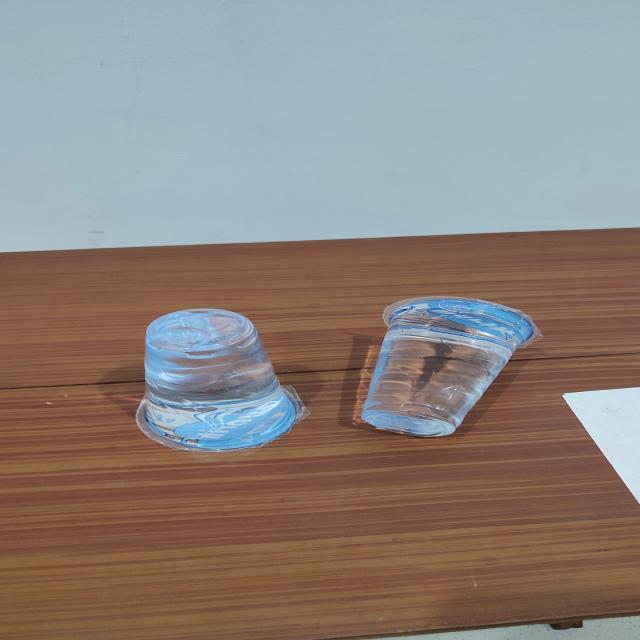air gelas: (121, 302, 321, 454), (355, 289, 512, 425)
